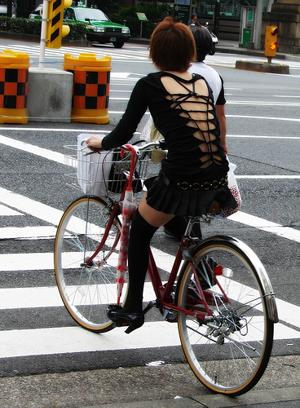person: (86, 18, 231, 339)
